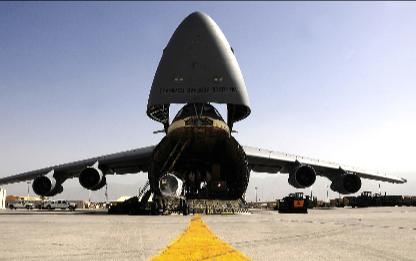C17: (0, 10, 408, 214)
